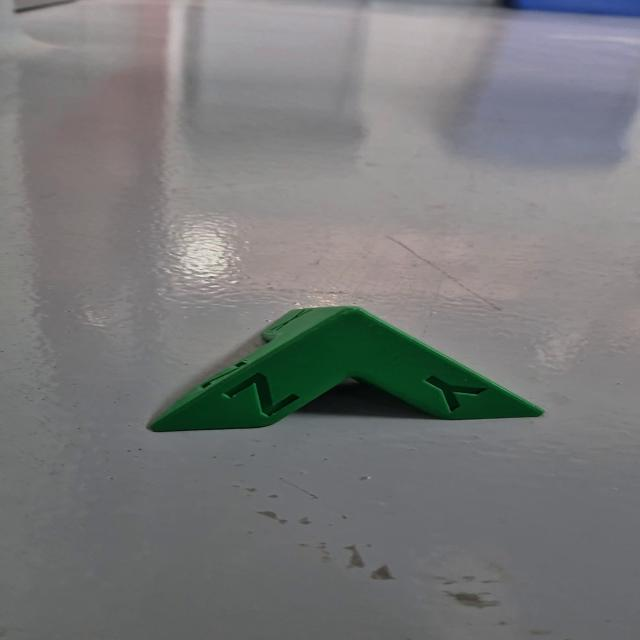objects: (142, 302, 565, 436)
